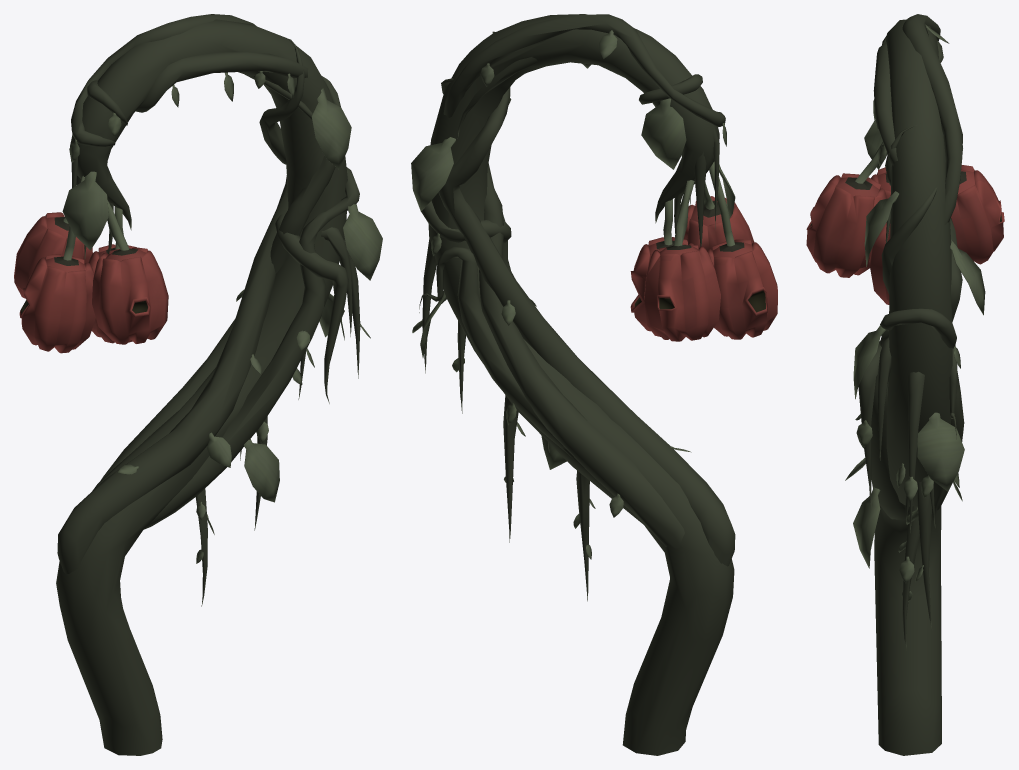
The model's file is pepper Plant 2.fbx.
3 views of the same model, side by side, from view 1: azimuth 30°, elevation 25°; view 2: azimuth 150°, elevation 25°; view 3: azimuth 270°, elevation 25° (orthographic). The views are drawn at different scales.
Parts seen in each view (by area): view 1: BezierCurve.001; view 2: BezierCurve.001; view 3: BezierCurve.001.
Part boxes in pixels (x1=…): BezierCurve.001: x1=14, y1=14, x2=382, y2=755; BezierCurve.001: x1=411, y1=14, x2=777, y2=755; BezierCurve.001: x1=806, y1=14, x2=1004, y2=755.
Size of the model in its own units: 148 by 284 by 68.85.
